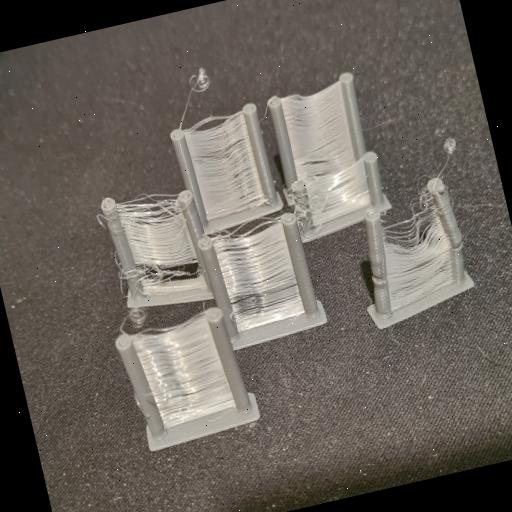stringing: (131, 312, 235, 426), (278, 82, 372, 208), (178, 108, 270, 222), (212, 228, 308, 328), (368, 208, 463, 308), (114, 190, 194, 264), (178, 66, 216, 100)
